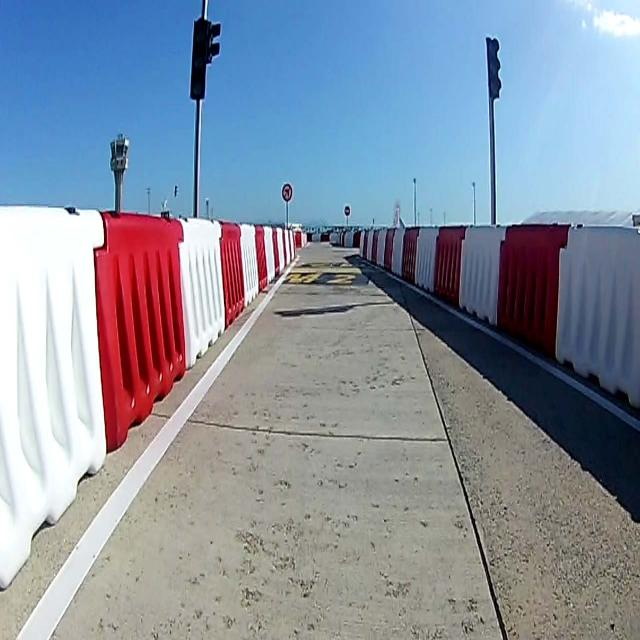girisyok: (344, 205, 350, 216)
soladonulmez: (282, 184, 292, 202)
